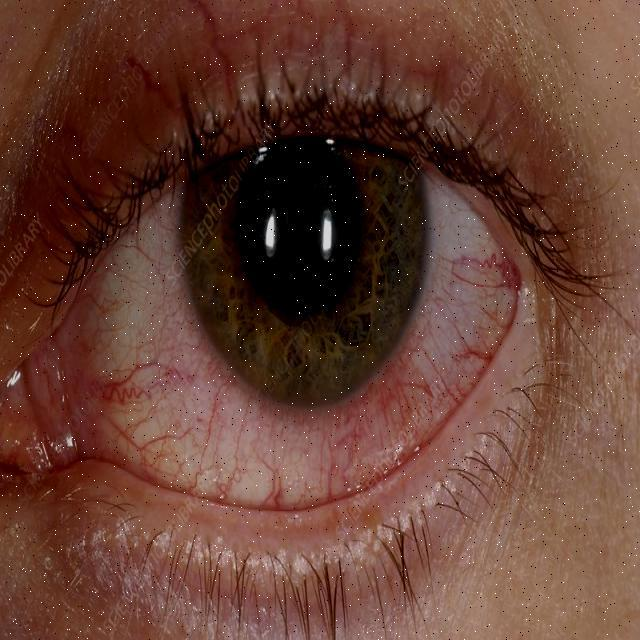Conjunctivitis: (0, 193, 560, 528)
